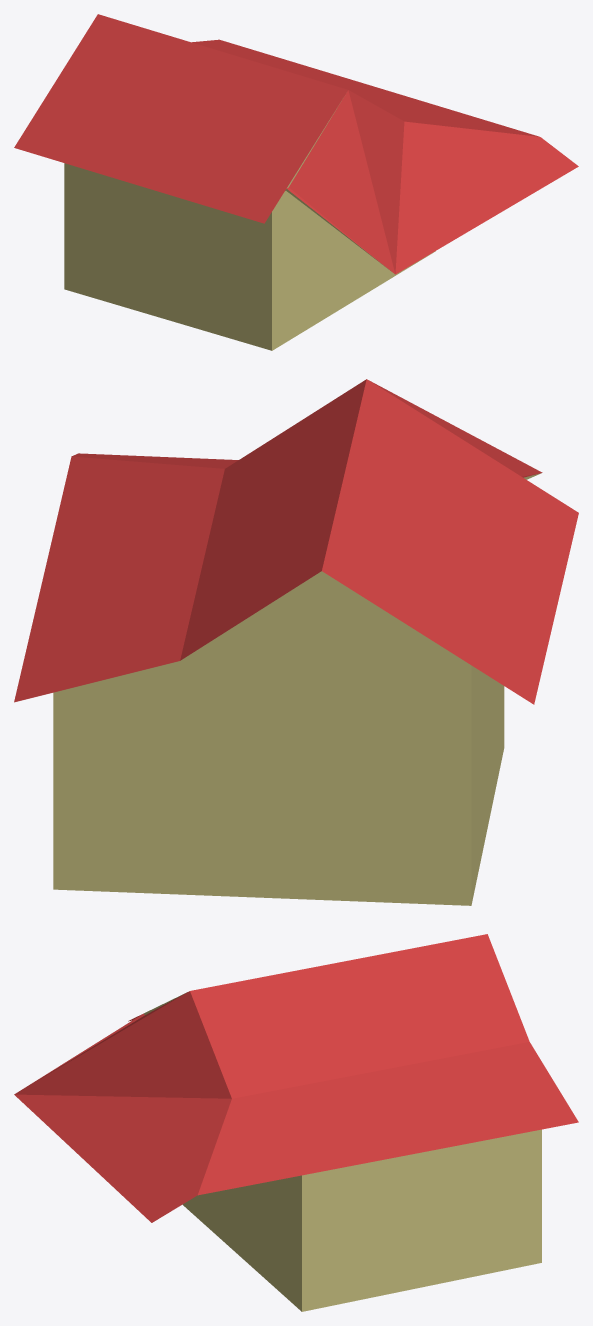
The picture shows the model from 3 angles, top to bottom: view 1: azimuth 30°, elevation 25°; view 2: azimuth 150°, elevation 25°; view 3: azimuth 270°, elevation 25°; orthographic projection. The views are drawn at different scales.
Size of the model in its own units: 17.97 by 19.01 by 9.22.
